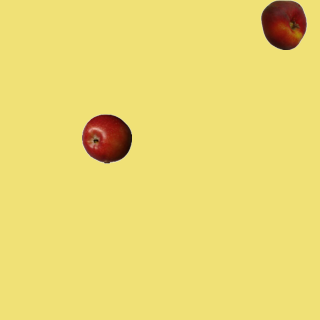Apple Braeburn: (81, 113, 131, 163)
Nectarine Flat: (258, 0, 308, 49)
